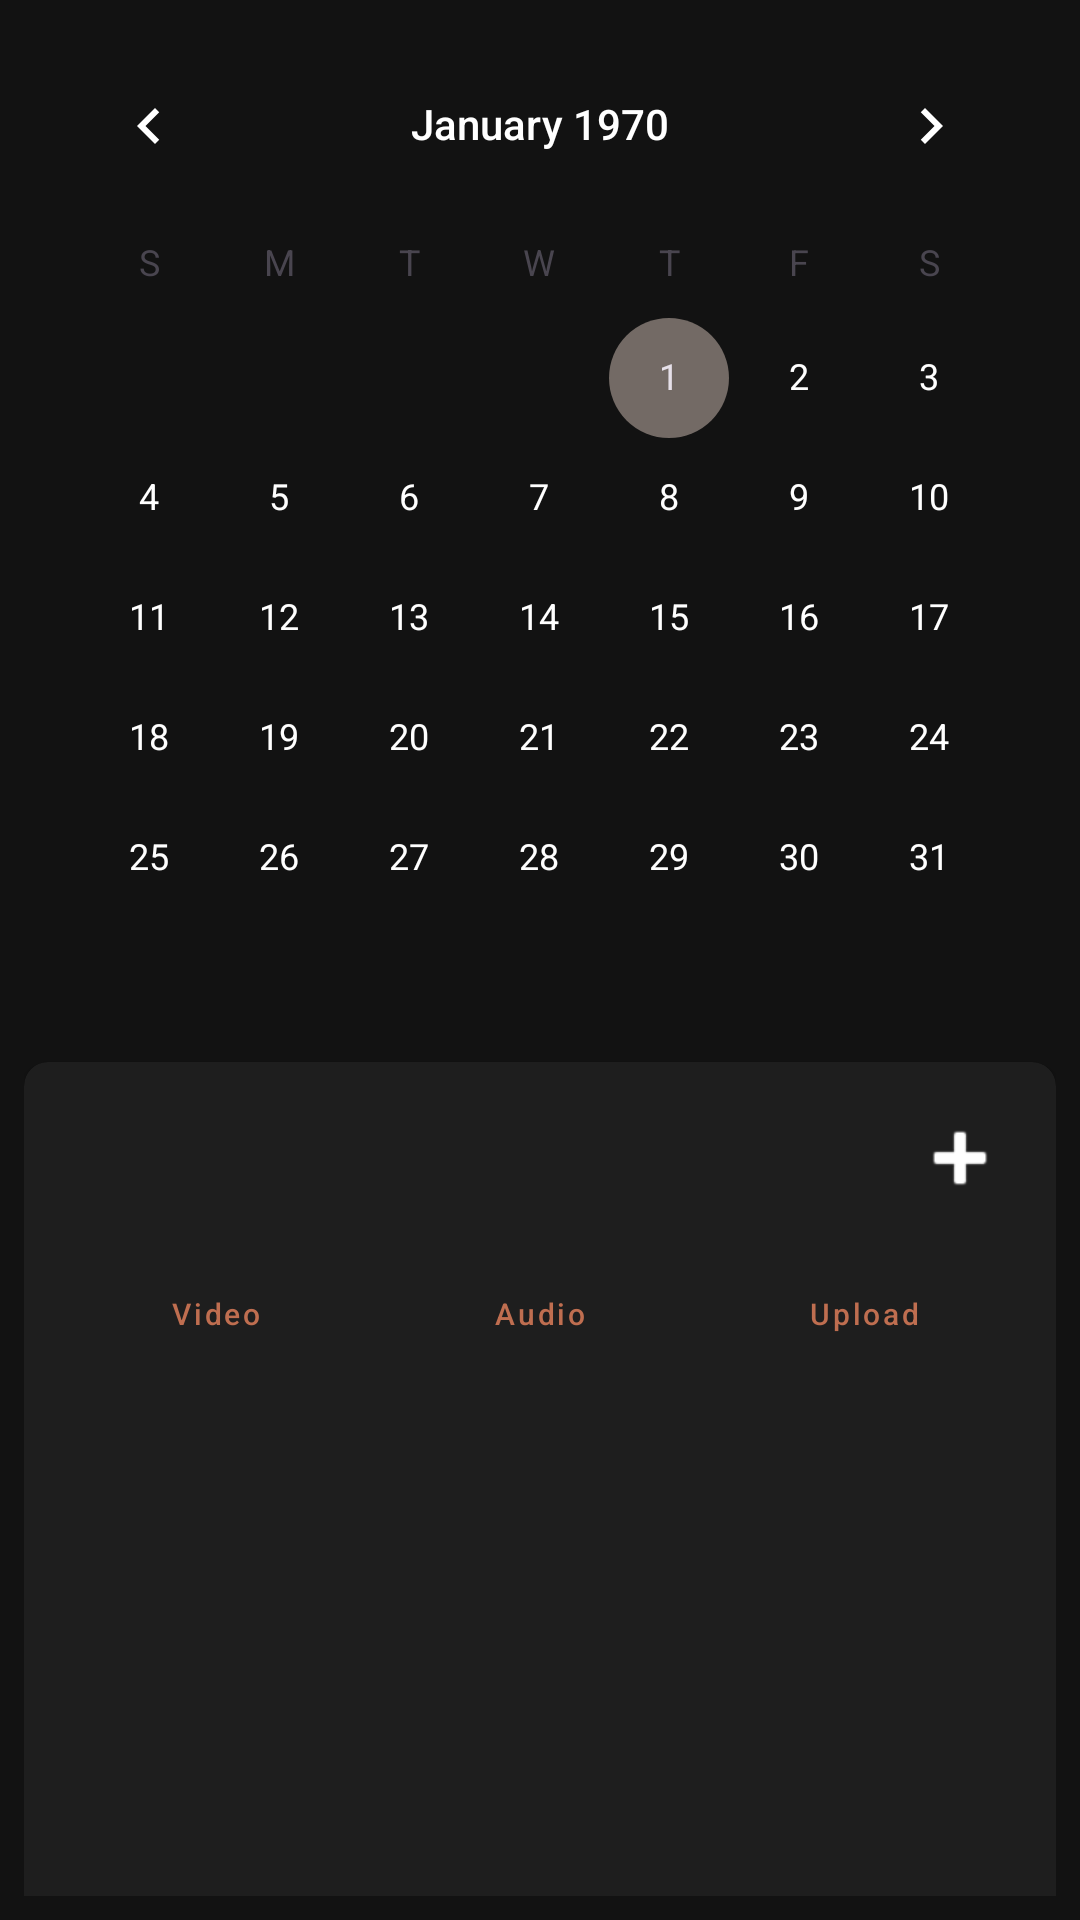

Screen size 1080×1920. Icon name, then its box in pixels as (x1, y1, x2, y2):
add: (933, 1131, 987, 1185)
